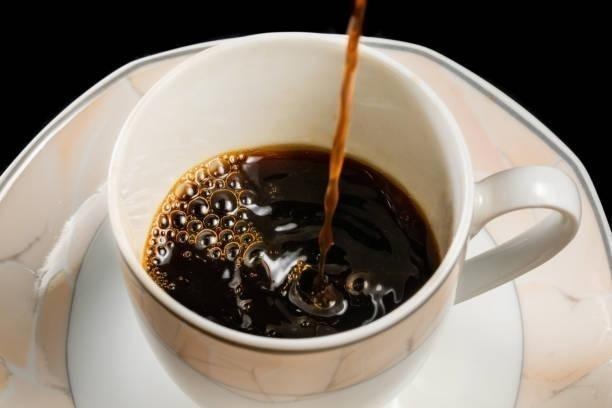cup-handle: (99, 28, 583, 407)
